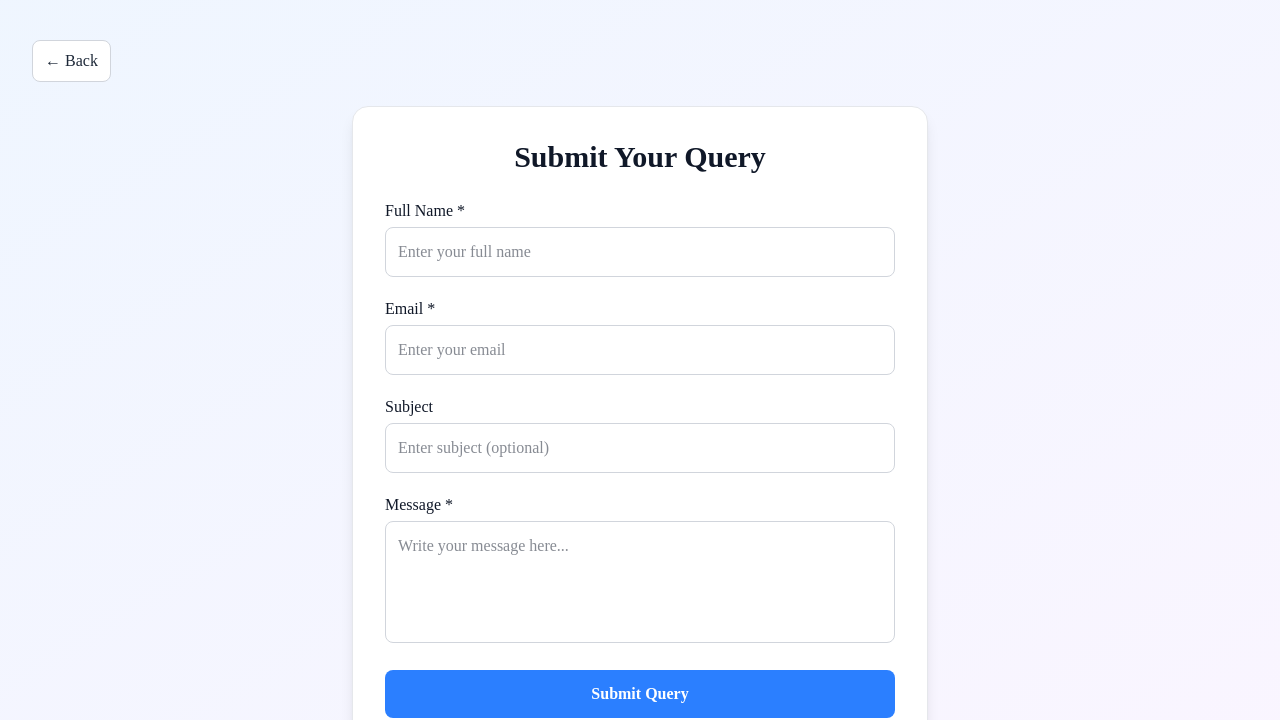
UserQueryForm › shows an error message if required fields are empty on submission
Click the button "Submit Query". click: (640, 694)
box: [385,670,895,718]
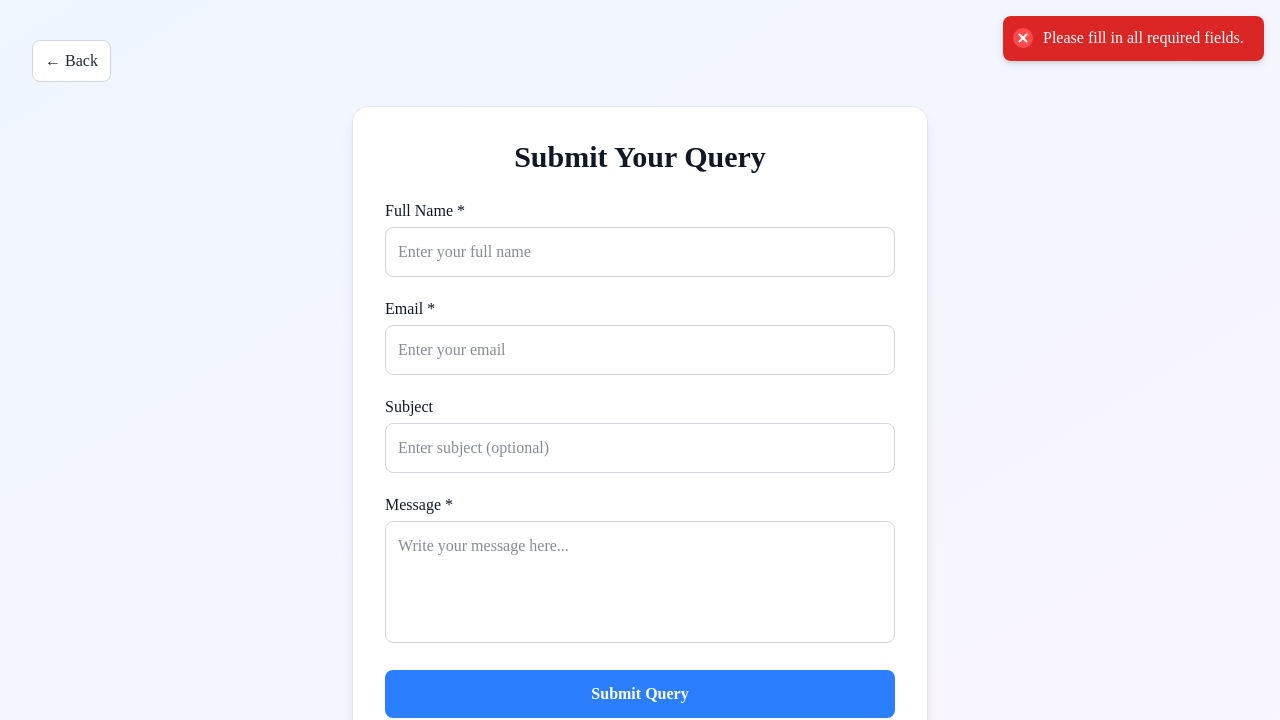
Expected: the text "Please fill in all required fields." is shown, [1043,28,1244,49]
